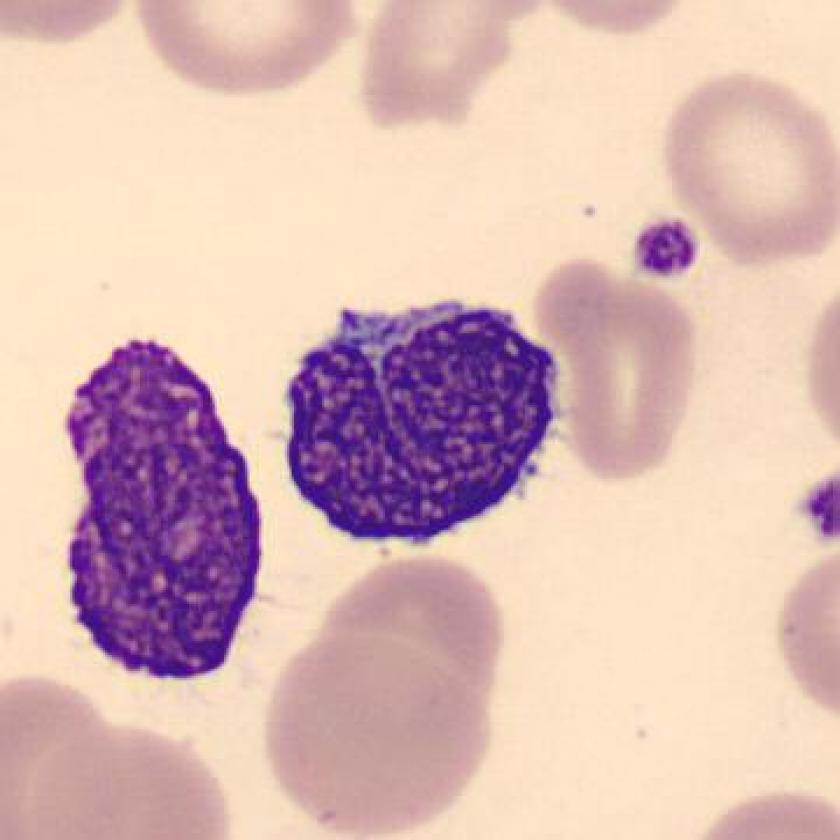lymphocyte: (274, 291, 577, 557)
